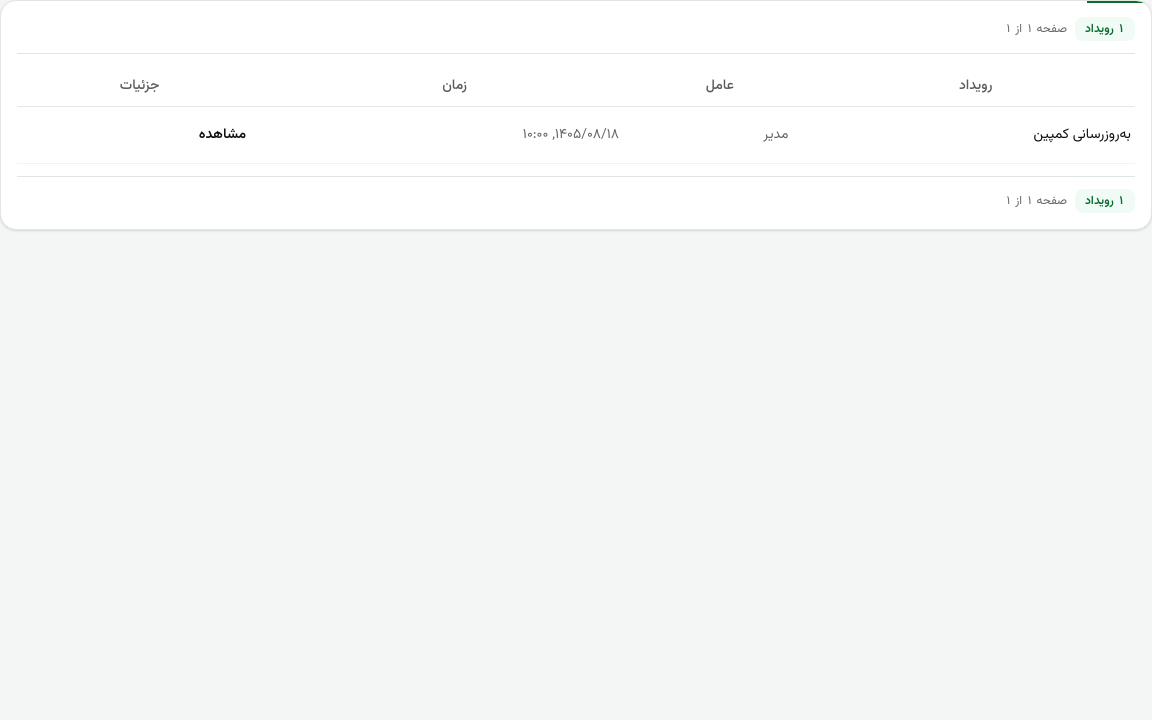
CampaignAuditPanel (SS-275) › loads one bounded campaign audit request and shows translated labels
The image size is (1152, 720).
Check: the text "به‌روزرسانی کمپین" is shown, box 804,106 -> 1135,164
Check: the text "مدیر" is shown, box 635,106 -> 804,164
Click the button "مشاهده" at (222, 135), box 187,117 -> 258,153
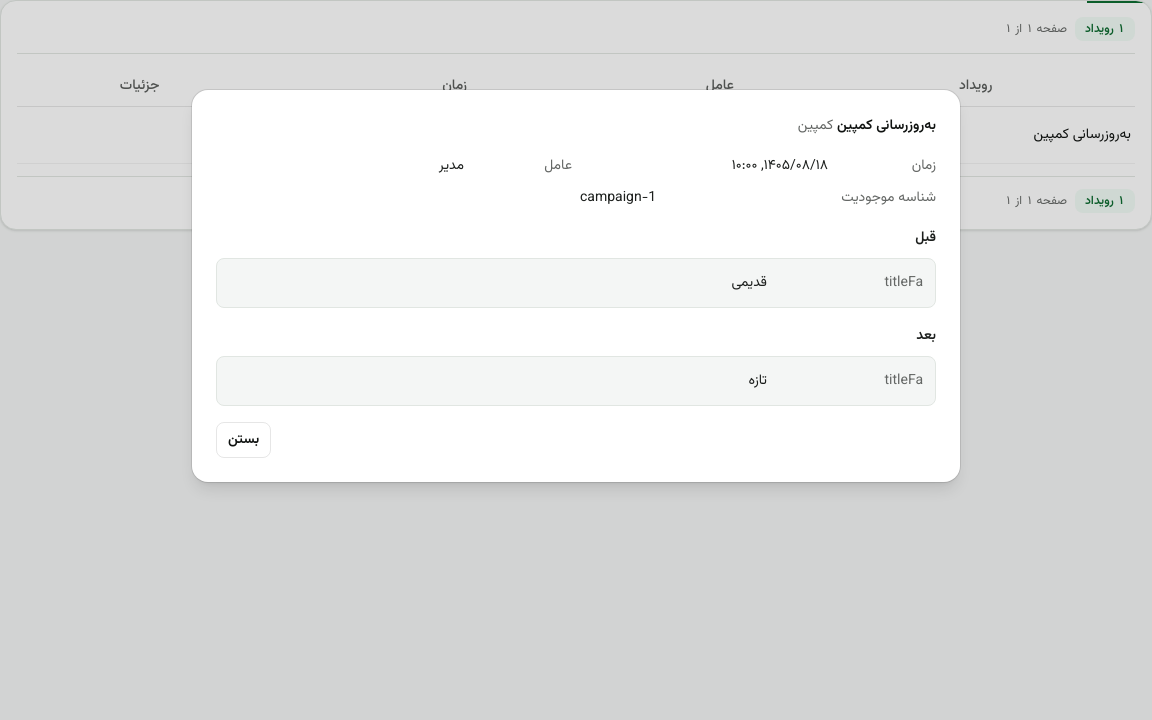
Check: the text "قبل" is shown, box 915,227 -> 936,249
Check: the text "بعد" is shown, box 916,325 -> 936,347
